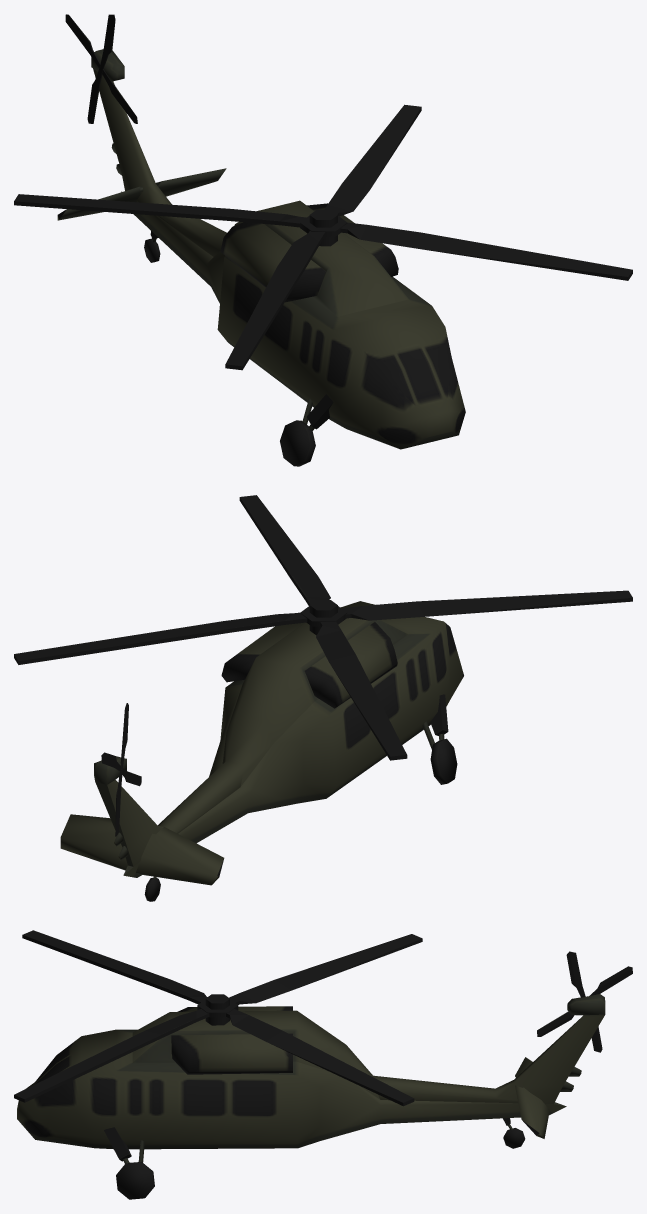
The model's file is blackhawk.DAE.
The picture shows the model from 3 angles, top to bottom: view 1: azimuth 30°, elevation 25°; view 2: azimuth 150°, elevation 25°; view 3: azimuth 270°, elevation 25°; orthographic projection. The views are drawn at different scales.
Visible parts, largest first — view 1: OV3D_BlackHawk; view 2: OV3D_BlackHawk; view 3: OV3D_BlackHawk.
Boxes of the visible parts, left/top/right/bottom form: OV3D_BlackHawk: left=14, top=14, right=632, bottom=466; OV3D_BlackHawk: left=14, top=495, right=632, bottom=901; OV3D_BlackHawk: left=14, top=930, right=632, bottom=1199.
Bounding box in the file's own units: 1827 × 1054 × 2767.
1 material, 1 textured.
